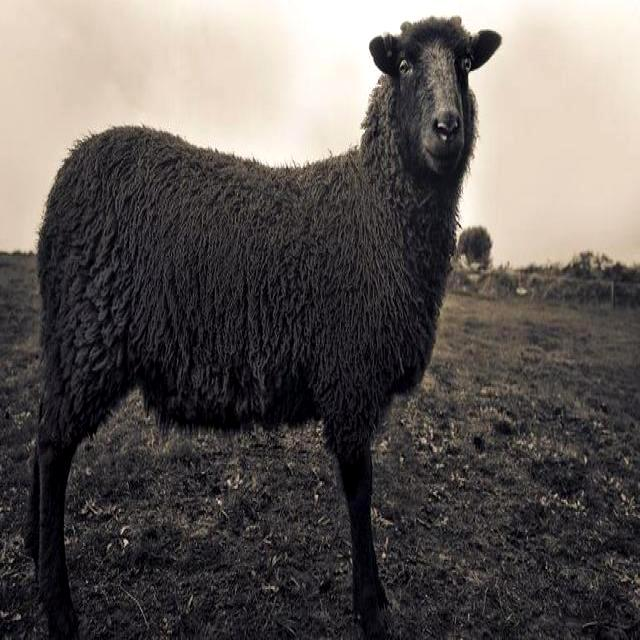sheep: (22, 14, 501, 639)
